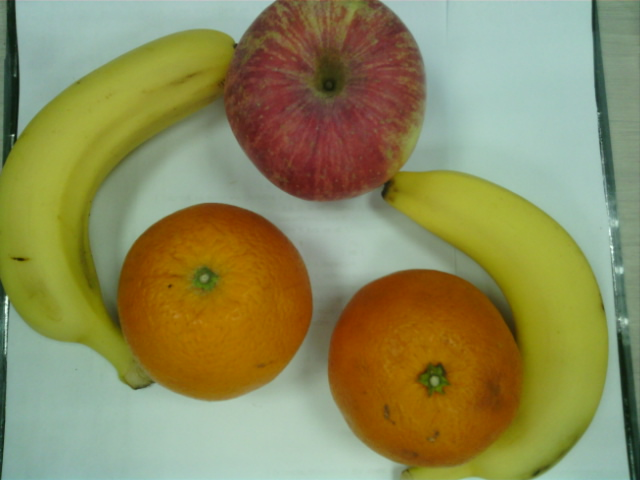normal_apple: (223, 1, 429, 199)
normal_banana: (1, 30, 237, 392), (384, 170, 609, 480)
normal_orange: (116, 203, 313, 401), (330, 269, 524, 468)
